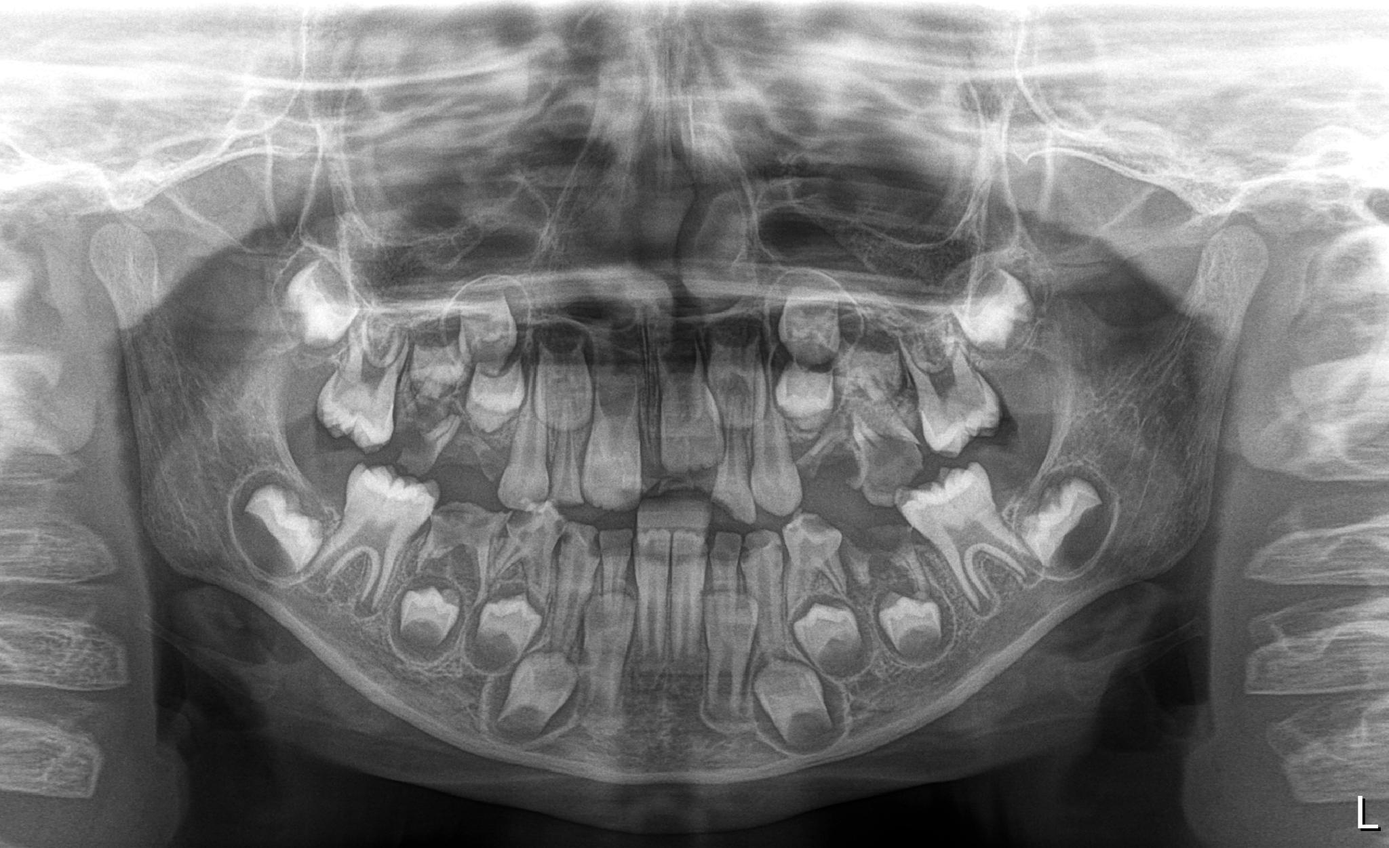Dental Caries: (839, 385, 912, 493), (400, 366, 462, 466)
Retained Root: (409, 505, 493, 643), (862, 532, 950, 661)
